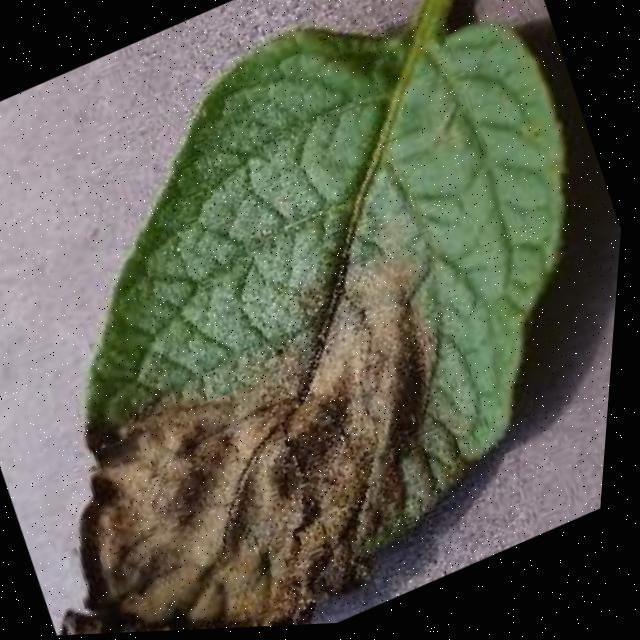Late_blight: (0, 250, 541, 639)
